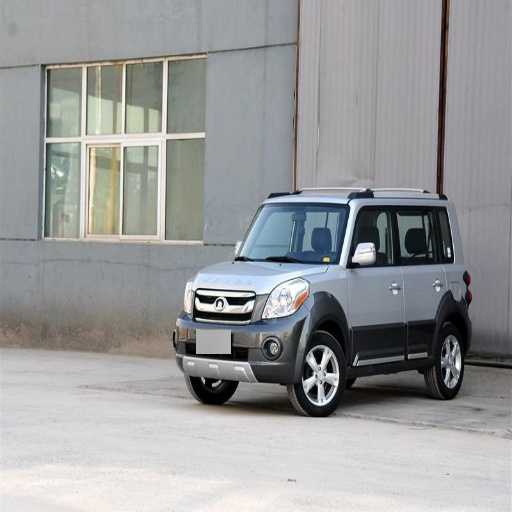front_bumper: (173, 282, 313, 385)
front_glass: (235, 204, 349, 263)
front_left_door: (347, 206, 405, 359)
